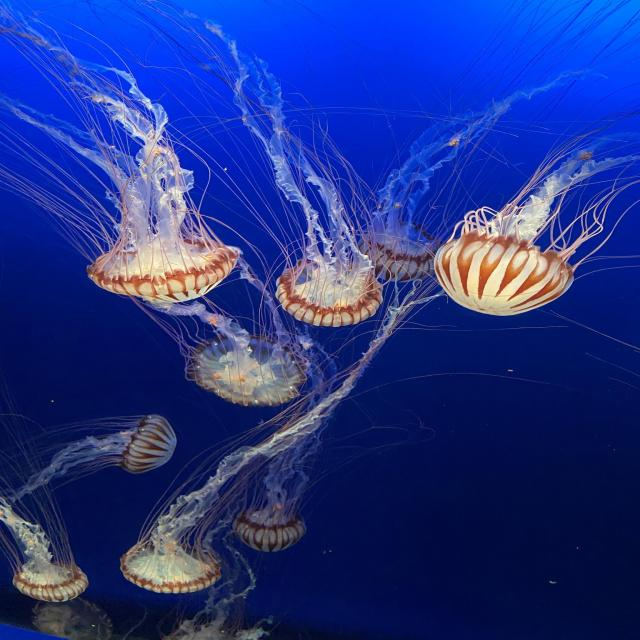jellyfish: (434, 236, 574, 316), (79, 244, 240, 302), (192, 343, 308, 403), (118, 536, 222, 594), (281, 268, 381, 324), (362, 227, 435, 278), (120, 412, 178, 474), (235, 508, 312, 551), (32, 601, 117, 639), (14, 562, 92, 600)
